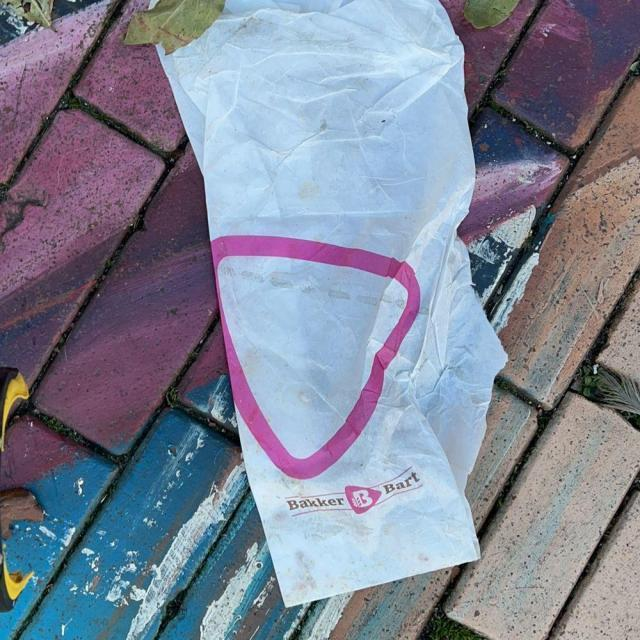Paper: (149, 0, 511, 611)
